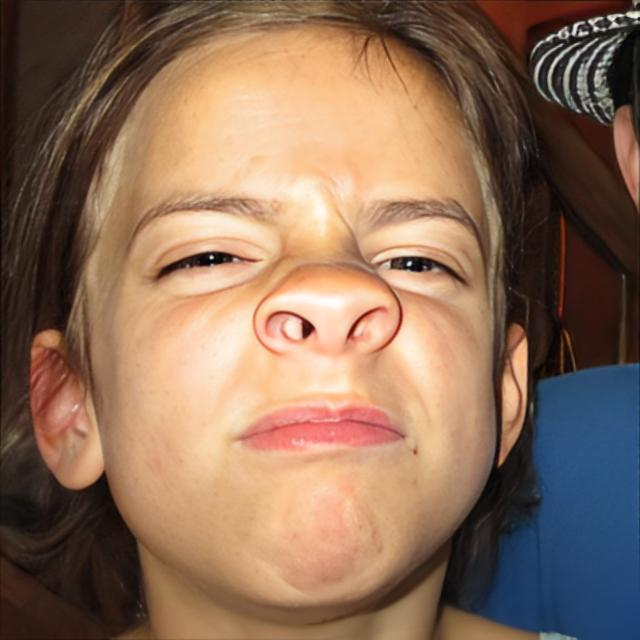disgust: (83, 16, 499, 612)
